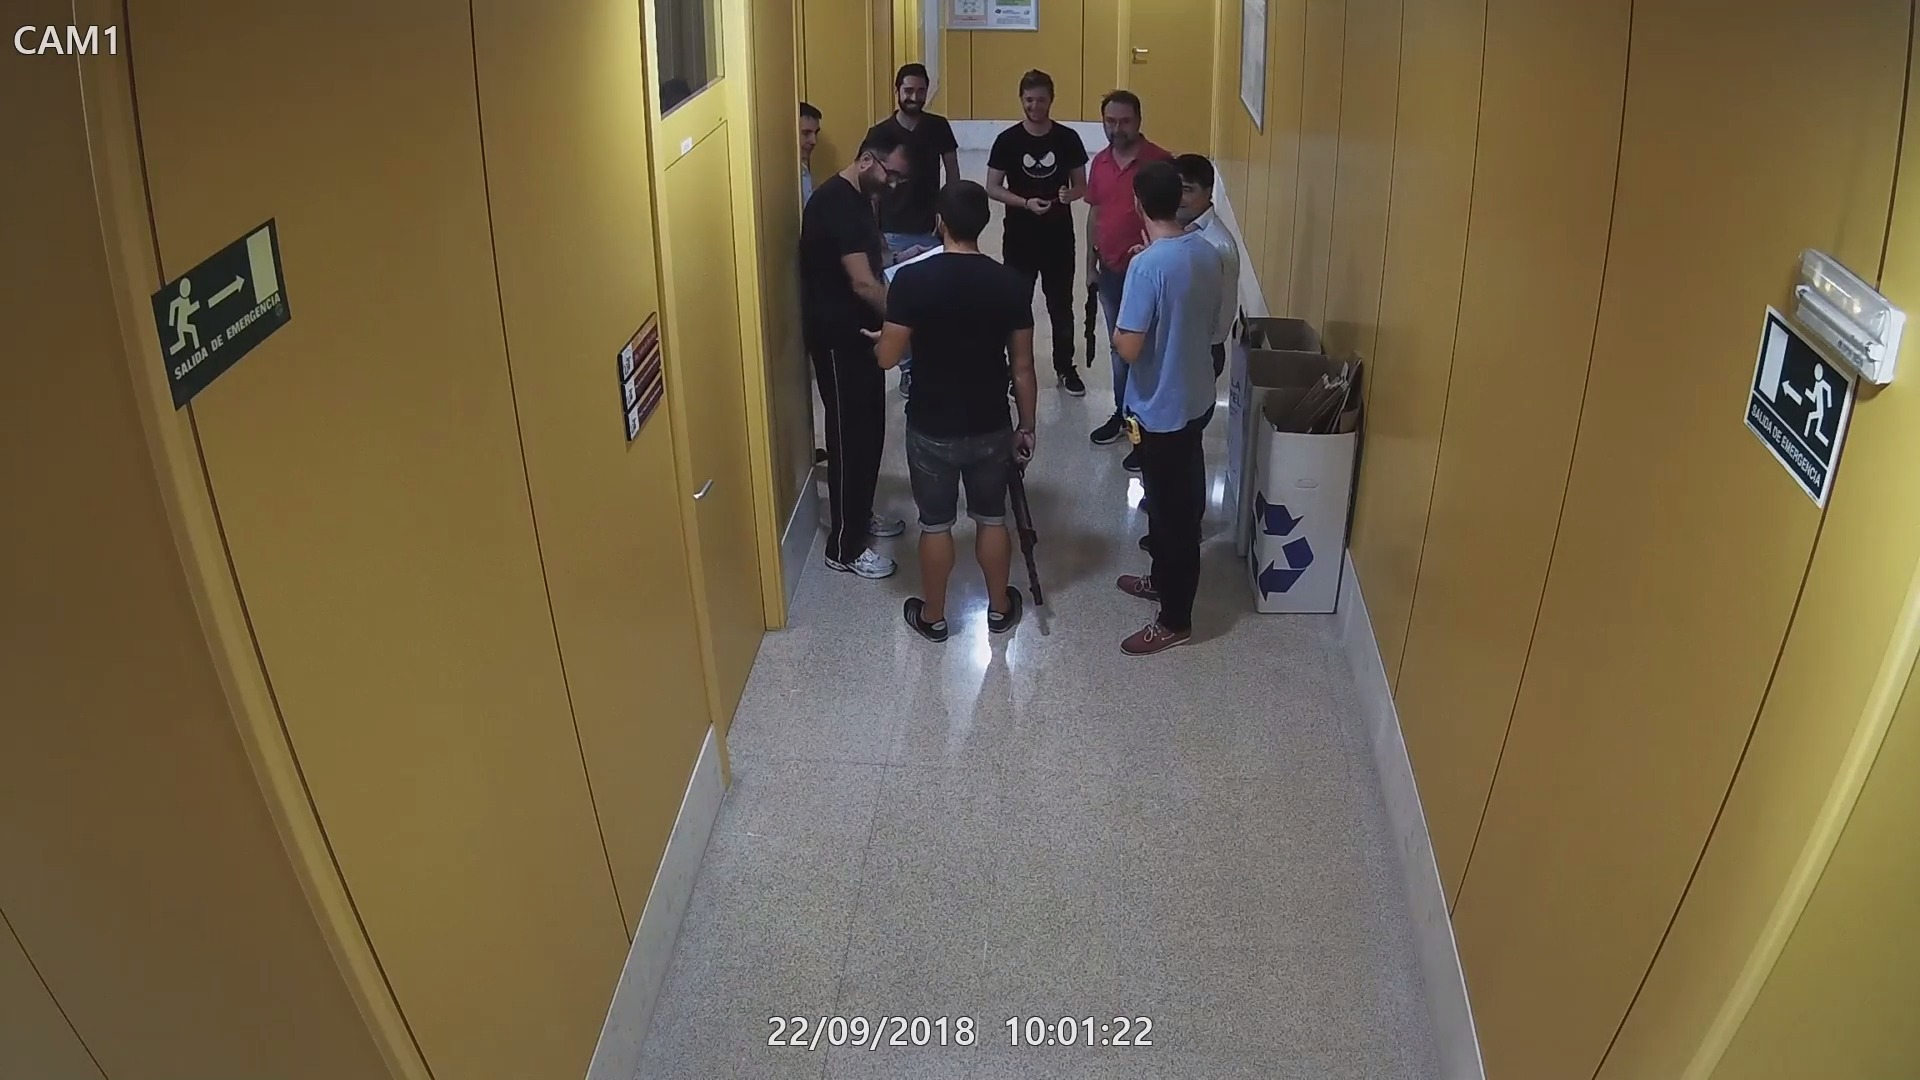Handgun: (1084, 249, 1110, 278)
Short_rifle: (1007, 430, 1051, 609), (1080, 264, 1106, 367)
